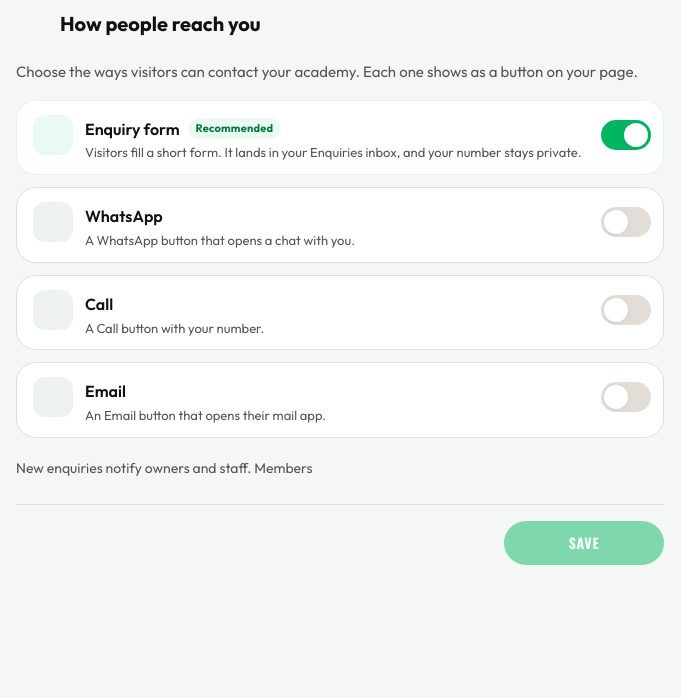
Scenario: ContactSettingsPage › shows the WhatsApp number field only once WhatsApp is on
Expected: the field labelled "WhatsApp number" is not shown
Click the switch named "WhatsApp".
click(626, 222)  # box [601,200,651,244]
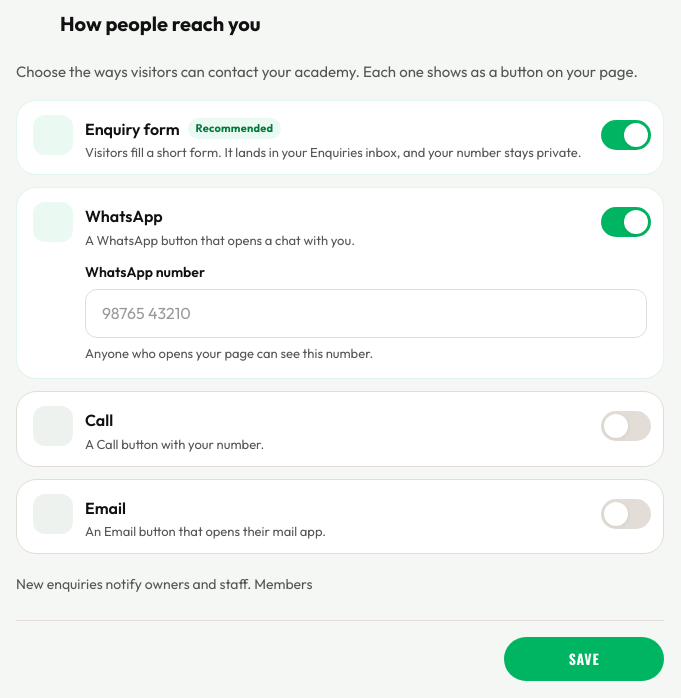
Now the text "Anyone who opens your page can see this number." is shown, box [85,345,373,361]
